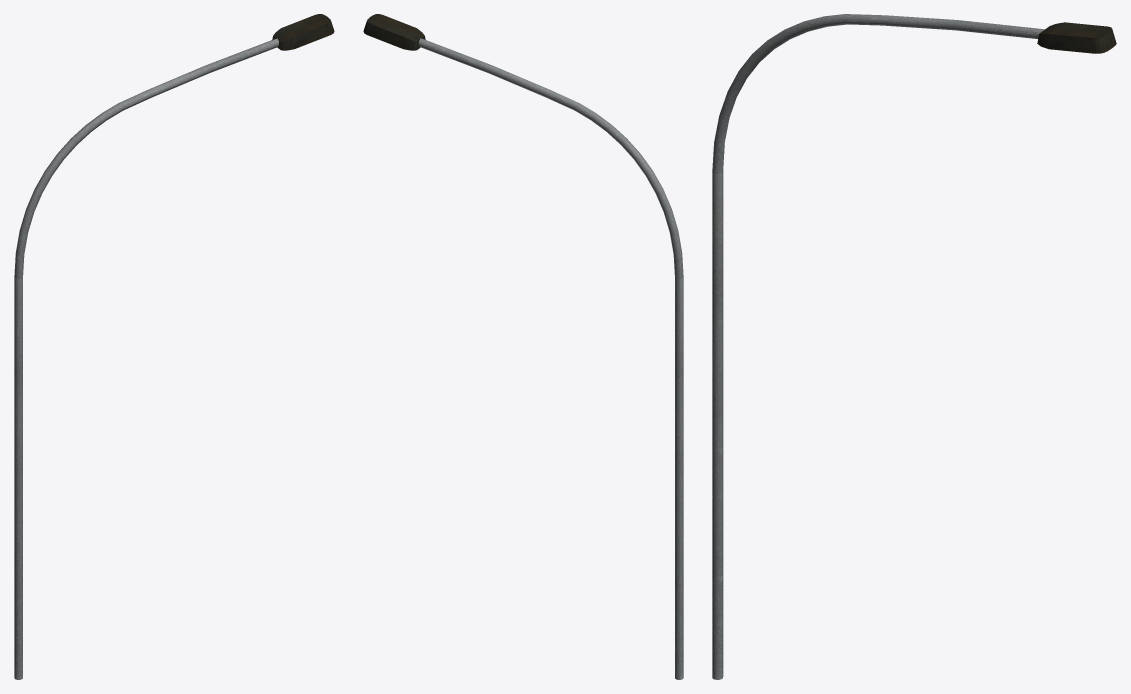
Rendered from Light-06.fbx.
3 renders of one model, left to right at view 1: azimuth 30°, elevation 25°; view 2: azimuth 150°, elevation 25°; view 3: azimuth 330°, elevation 25°, orthographic. The views are drawn at different scales.
Visible parts, largest first — view 1: Light-02; view 2: Light-02; view 3: Light-02.
Boxes of the visible parts, box(x1,y1,x2,y2) form: Light-02: box(14, 14, 334, 679); Light-02: box(363, 14, 683, 679); Light-02: box(712, 14, 1116, 679).
Bounding box in the file's own units: 657 × 1163 × 48.15.
